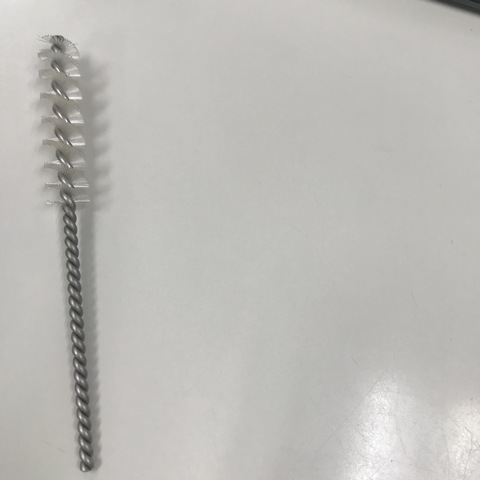Twist Brush-B: (30, 30, 120, 472)
